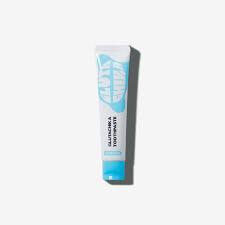toothpaste: (91, 40, 137, 193)
